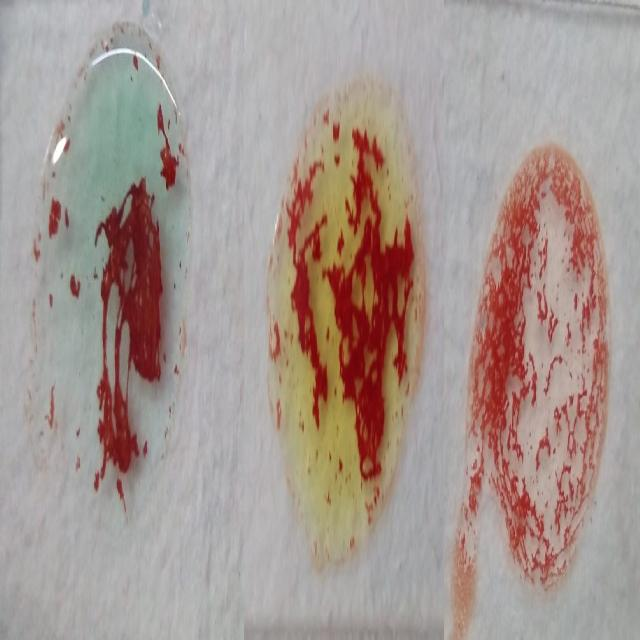A: (45, 28, 191, 489)
B: (274, 104, 422, 536)
D: (491, 138, 606, 580)
